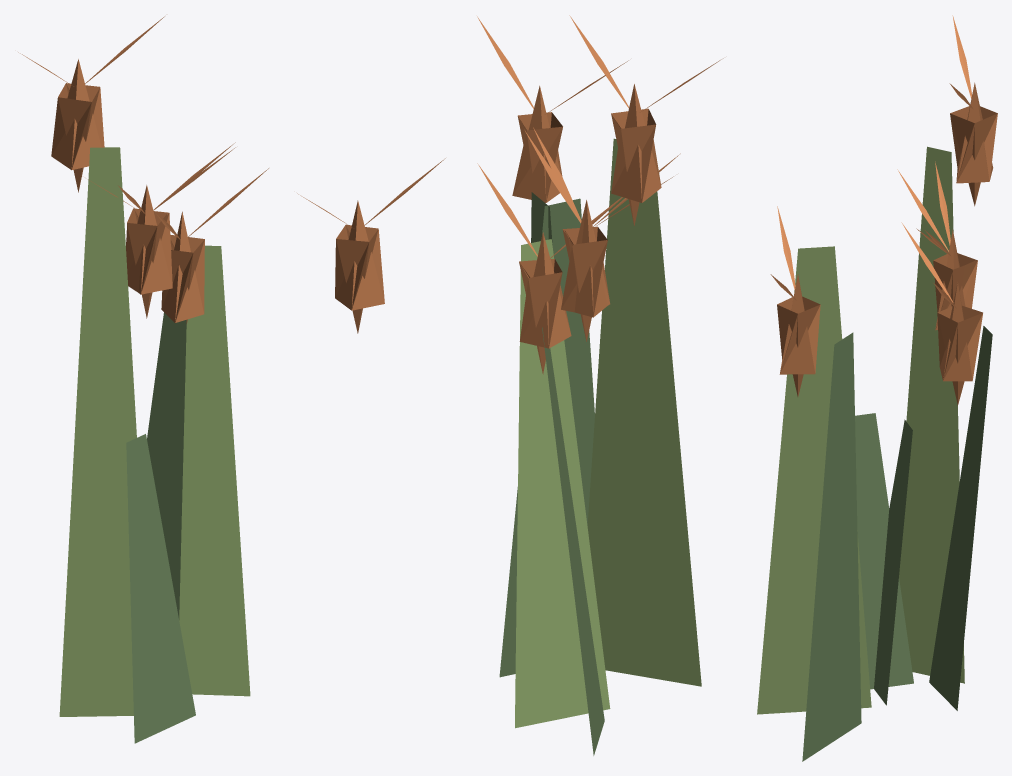
The model's file is nong.mai@fruiting__summer.glb.
The picture shows the model from 3 angles, left to right: view 1: azimuth 30°, elevation 25°; view 2: azimuth 150°, elevation 25°; view 3: azimuth 270°, elevation 25°; orthographic projection. The views are drawn at different scales.
Parts seen in each view (by area): view 1: nong.mai@fruiting__summer; view 2: nong.mai@fruiting__summer; view 3: nong.mai@fruiting__summer.
Part boxes in pixels (x1=…): nong.mai@fruiting__summer: x1=18, y1=16, x2=445, y2=743; nong.mai@fruiting__summer: x1=477, y1=15, x2=723, y2=755; nong.mai@fruiting__summer: x1=757, y1=15, x2=997, y2=761.
Bounding box in the file's own units: 0.5635 × 1.09 × 0.3787.
